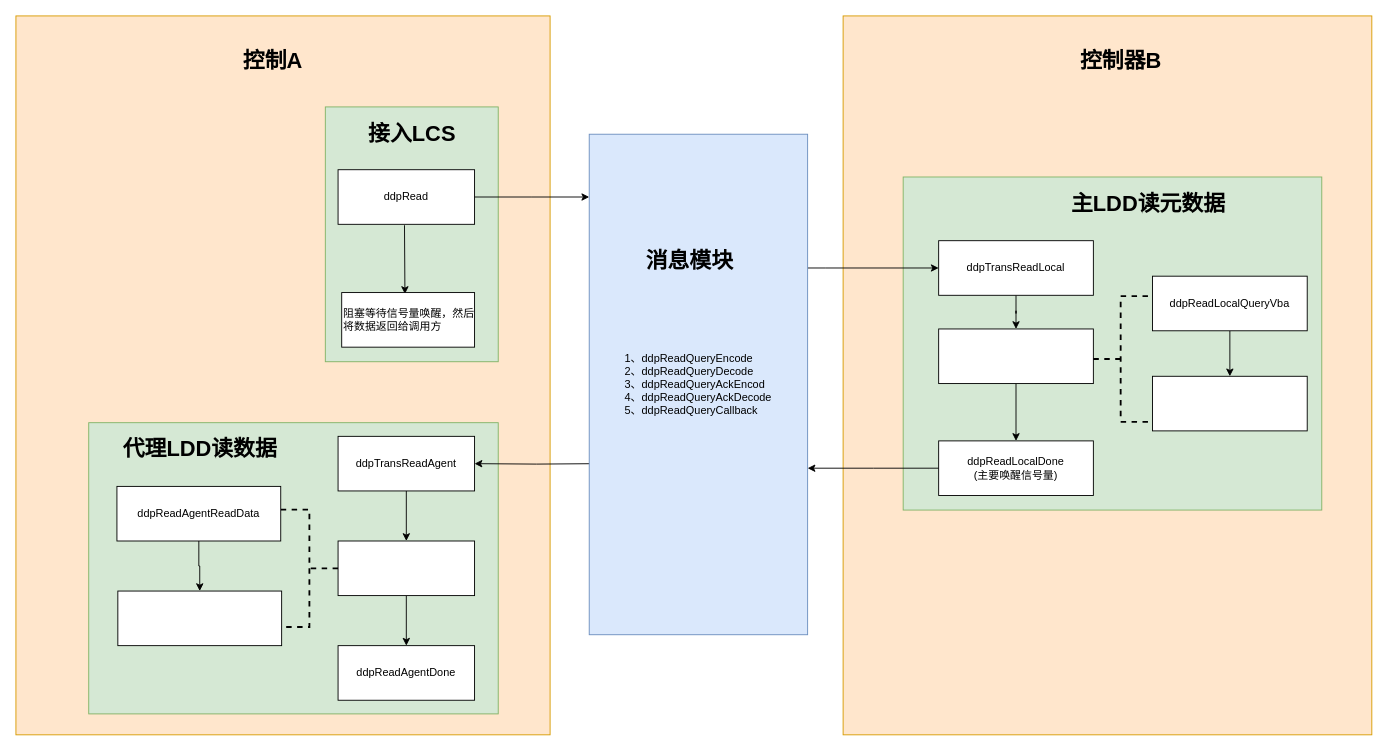
Some shapes in this 1388 by 751 pixel diagram are drawn without their labels. The shapes that lost their labels are listed below. From the top down, each one's centre as x and y in pixels, then its label:
At point 1015,356: "ddpDoReadLocal".
At point 1229,403: "ddpReadLocalQueryVbaInfo".
At point 406,568: "ddpDoReadAgent".
At point 199,618: "ddpReadAgentVerifyCheckSum".
